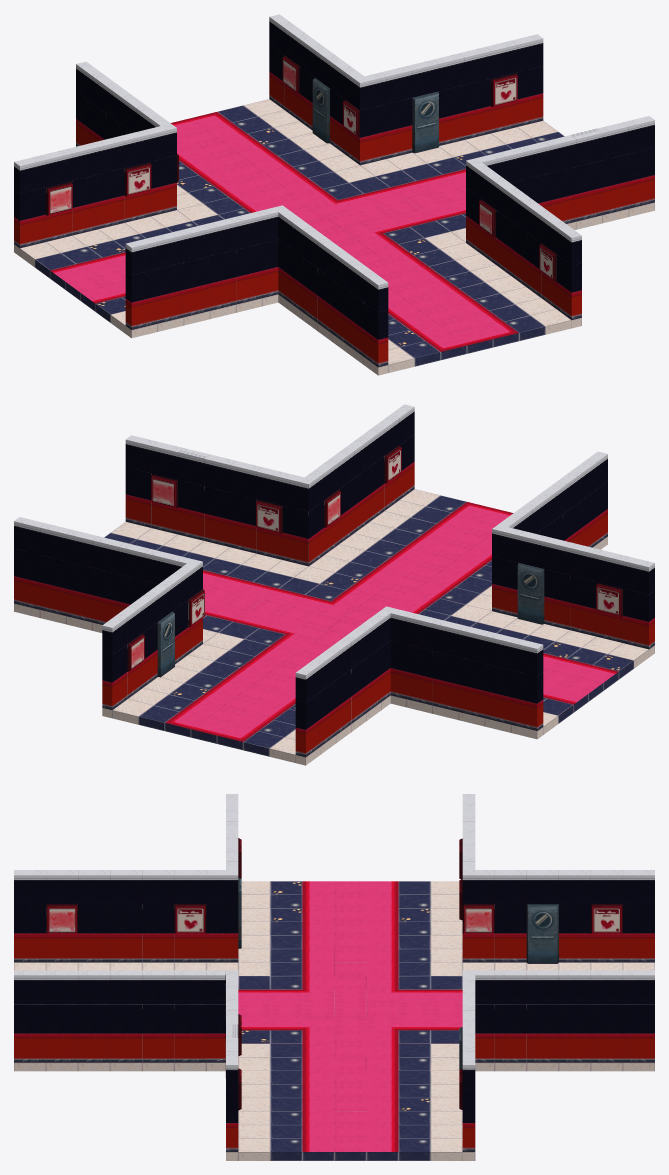
The model's file is Intersection.fbx.
3 renders of one model, top to bottom at view 1: azimuth 30°, elevation 25°; view 2: azimuth 150°, elevation 25°; view 3: azimuth 270°, elevation 25°, orthographic. The views are drawn at different scales.
Visible parts, largest first — view 1: Intersection; view 2: Intersection; view 3: Intersection.
Part boxes in pixels (x1=…): Intersection: x1=14, y1=14, x2=654, y2=375; Intersection: x1=14, y1=404, x2=654, y2=765; Intersection: x1=14, y1=794, x2=654, y2=1160.
Bounding box in the file's own units: 2000 × 330 × 2000.
